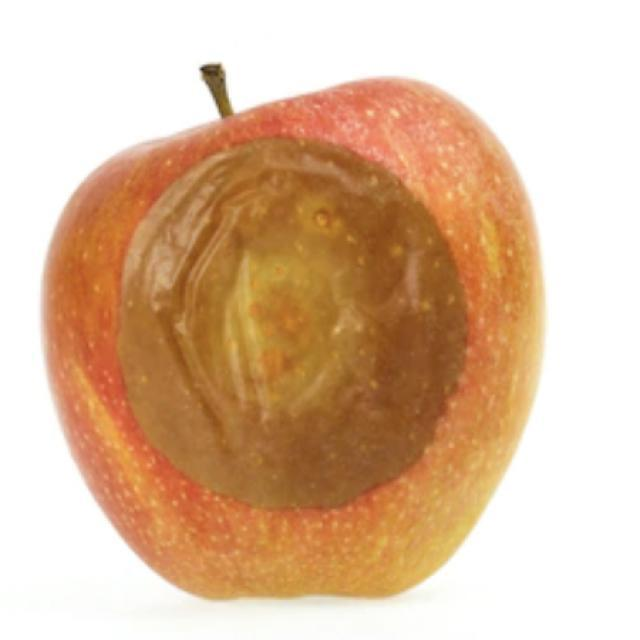Rotten: (45, 74, 545, 604)
